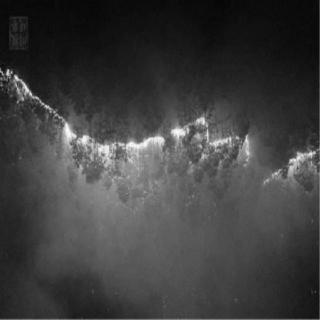Fire: (46, 115, 252, 173), (261, 145, 317, 197)
